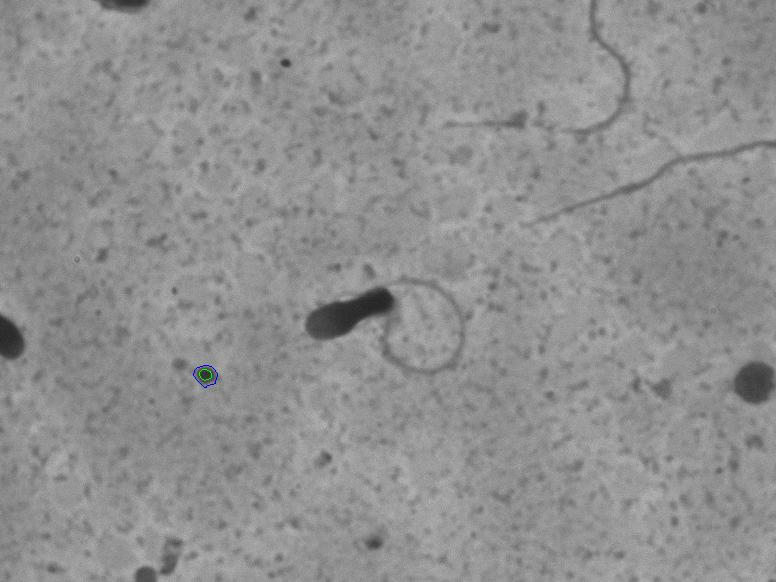Abnormal: (284, 247, 488, 402)
